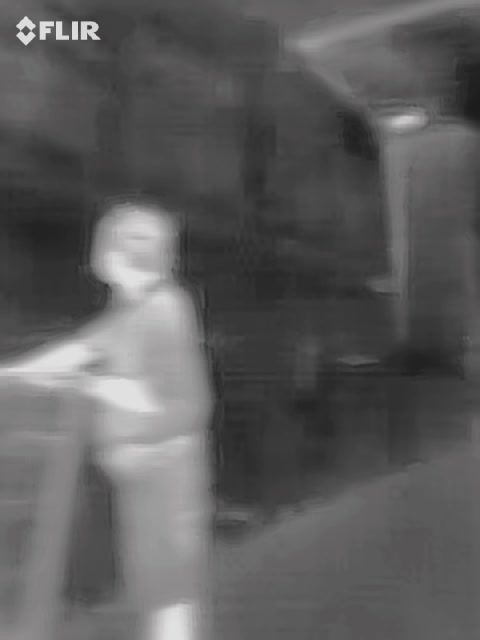head: (88, 203, 178, 292)
